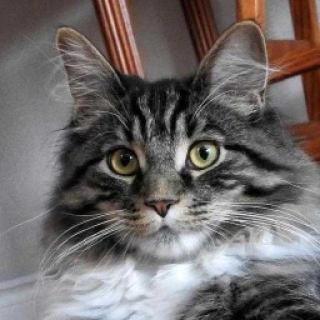cat: (52, 21, 274, 270)
nose: (141, 180, 183, 222)
